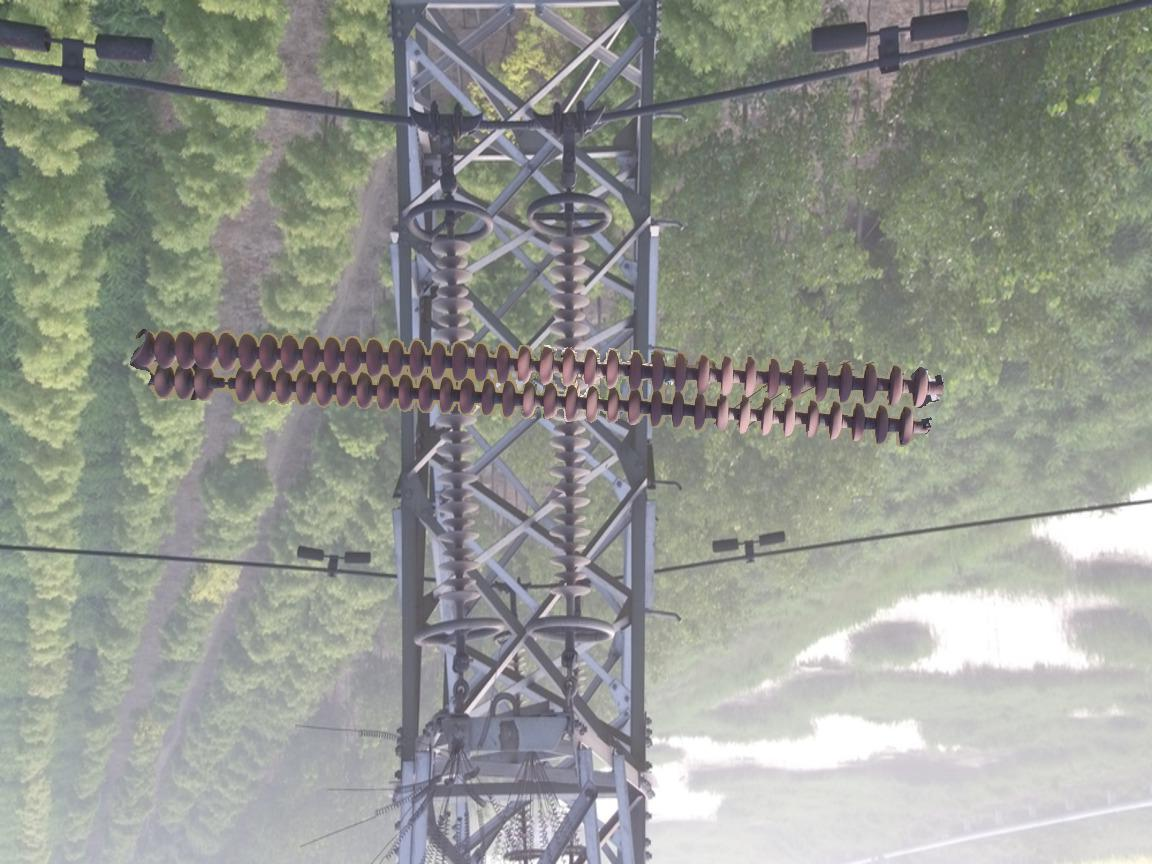insulator: (132, 327, 939, 450), (418, 233, 489, 611), (542, 229, 599, 606)
insulator_stringdrop: (191, 367, 256, 405)
